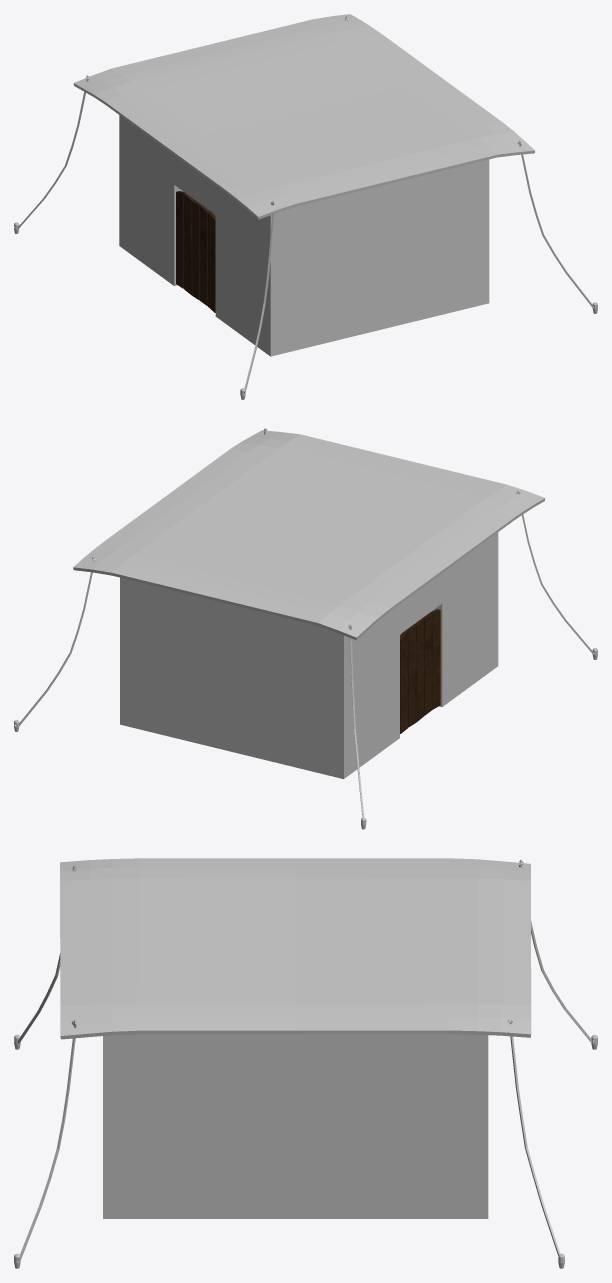
File: Casa Secundaria .fbx
3 views of the same model, one above another, from view 1: azimuth 30°, elevation 25°; view 2: azimuth 150°, elevation 25°; view 3: azimuth 270°, elevation 25° (orthographic). The views are drawn at different scales.
Parts seen in each view (by area): view 1: Telhado, Casa Secundaria, Porta; view 2: Telhado, Casa Secundaria, Porta; view 3: Telhado, Casa Secundaria.
Part boxes in pixels (bbox=[...]): Telhado: bbox=[14, 14, 597, 399]; Casa Secundaria: bbox=[119, 115, 489, 356]; Porta: bbox=[176, 191, 215, 312]; Telhado: bbox=[14, 428, 597, 829]; Casa Secundaria: bbox=[120, 532, 498, 779]; Porta: bbox=[400, 609, 440, 733]; Telhado: bbox=[14, 858, 597, 1268]; Casa Secundaria: bbox=[103, 1034, 488, 1218].
Bounding box in the file's own units: 606 × 275 × 675.
